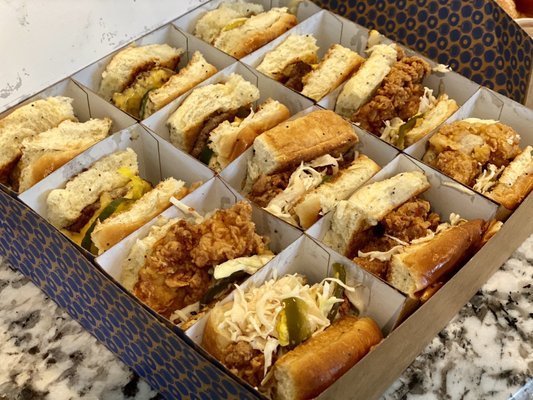soup: (0, 248, 140, 400), (245, 107, 373, 218), (42, 147, 151, 244), (322, 170, 432, 259), (334, 44, 429, 136), (89, 175, 190, 257), (166, 72, 259, 156), (193, 96, 291, 173), (300, 42, 364, 110), (255, 32, 321, 87)
